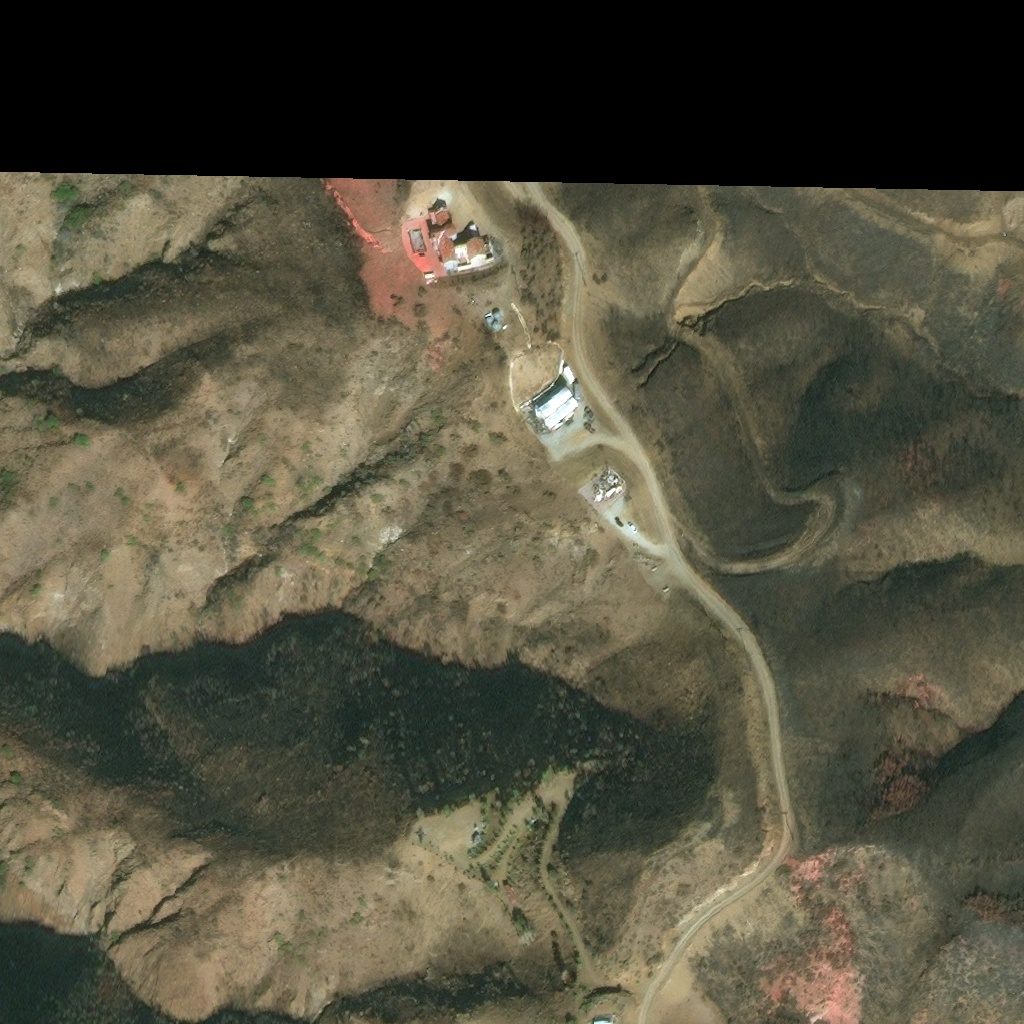0 no-damage: (531, 384, 578, 432), (454, 241, 494, 268), (429, 225, 459, 244), (438, 239, 457, 268), (409, 229, 427, 256), (432, 210, 453, 231), (488, 238, 504, 260), (562, 367, 576, 386), (570, 384, 584, 402), (584, 408, 597, 423), (484, 318, 493, 327), (491, 313, 500, 321), (491, 324, 500, 332), (423, 274, 434, 280)
3 destroyed: (593, 469, 619, 495)
